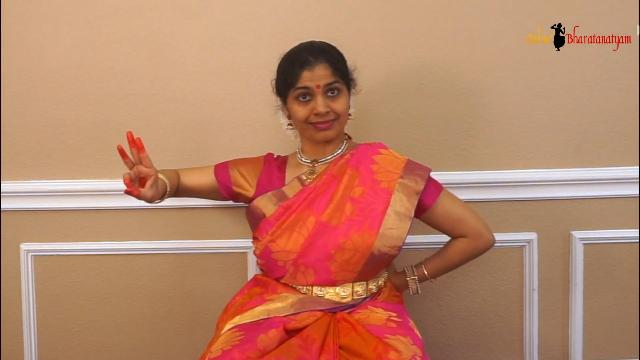trishool: (108, 123, 180, 227)
